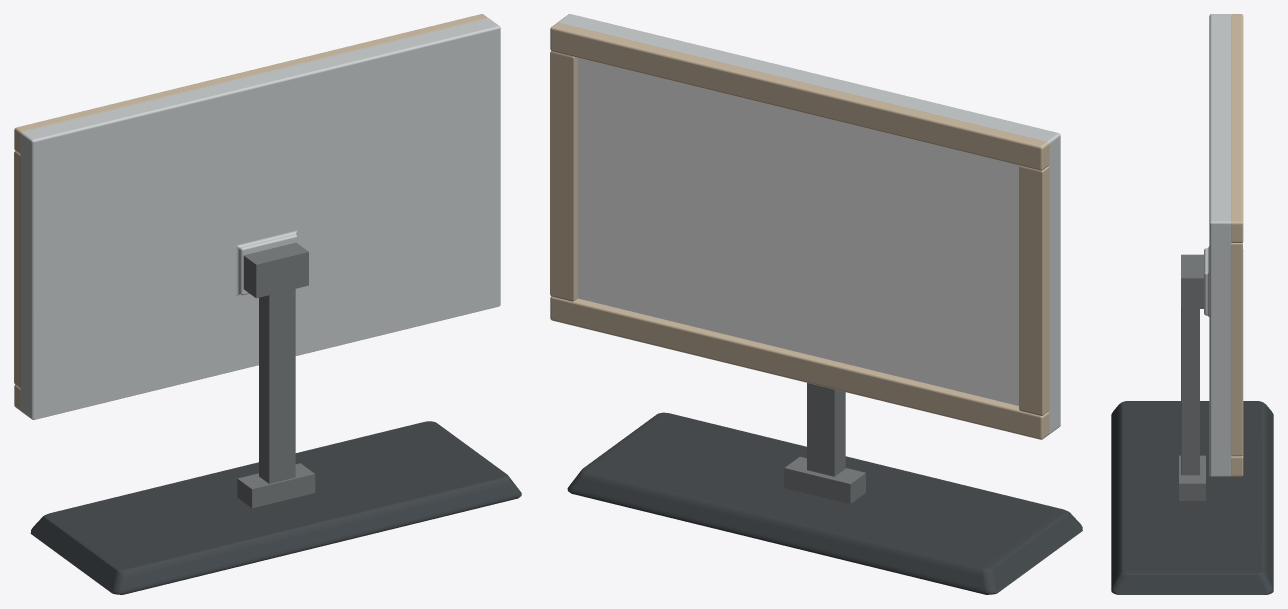
3 views of the same model, side by side, from view 1: azimuth 30°, elevation 25°; view 2: azimuth 150°, elevation 25°; view 3: azimuth 270°, elevation 25° (orthographic). The views are drawn at different scales.
Parts seen in each view (by area): view 1: monitor_body_bezel, base_stand, pedestal_arm; view 2: display_surface, monitor_body_bezel, base_stand, pedestal_arm; view 3: base_stand, monitor_body_bezel, pedestal_arm.
Boxes of the visible parts, left/top/right/bottom form: monitor_body_bezel: left=14, top=14, right=500, bottom=419; base_stand: left=30, top=421, right=521, bottom=594; pedestal_arm: left=237, top=242, right=315, bottom=508; display_surface: left=578, top=58, right=1019, bottom=405; monitor_body_bezel: left=550, top=14, right=1060, bottom=439; base_stand: left=567, top=412, right=1082, bottom=594; pedestal_arm: left=784, top=383, right=865, bottom=503; base_stand: left=1111, top=401, right=1273, bottom=594; monitor_body_bezel: left=1204, top=14, right=1243, bottom=476; pedestal_arm: left=1179, top=254, right=1205, bottom=500.
Size of the model in its own units: 6.4 by 5.53 by 2.1.
